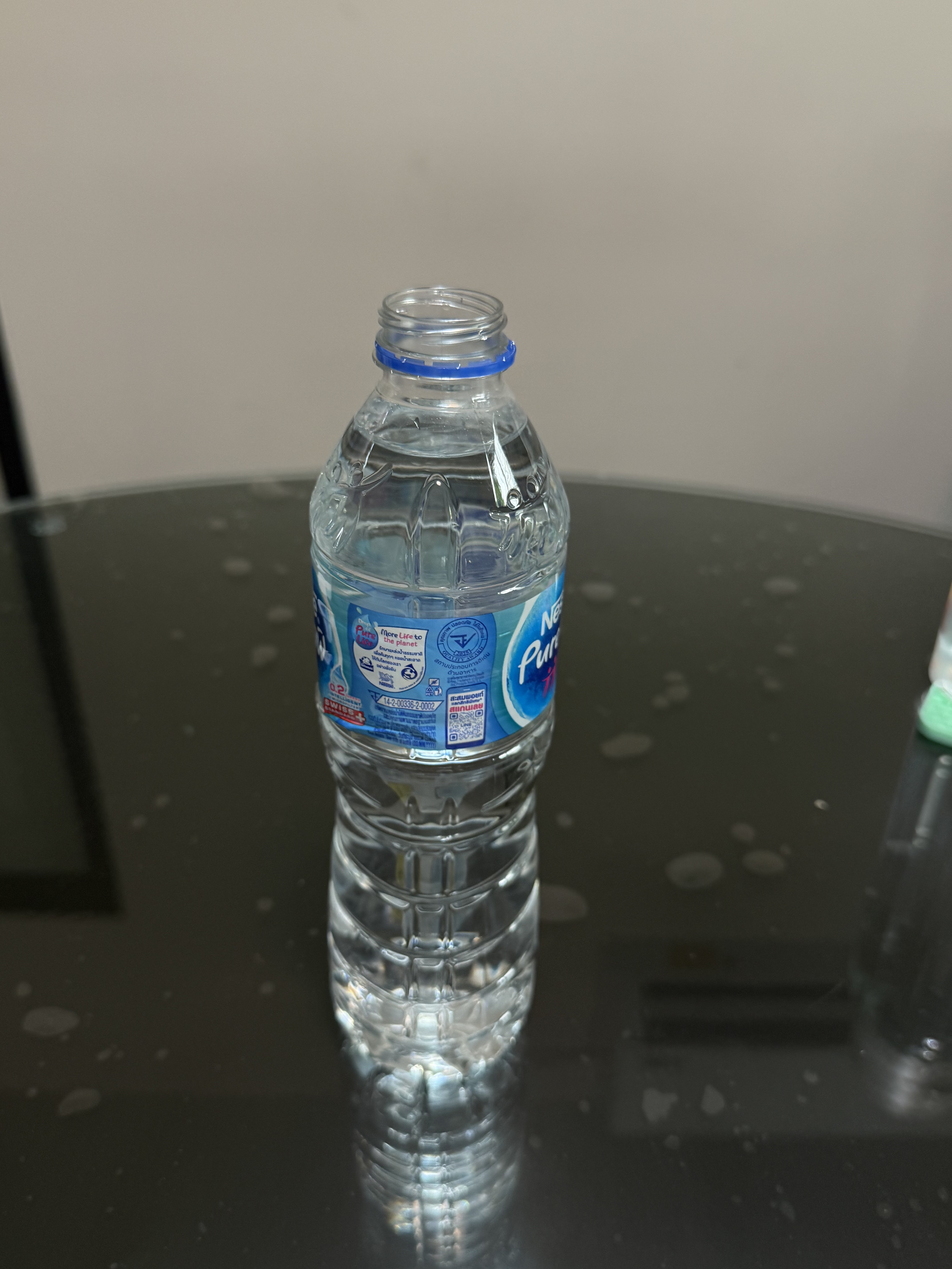no_cap: (370, 283, 519, 383)
